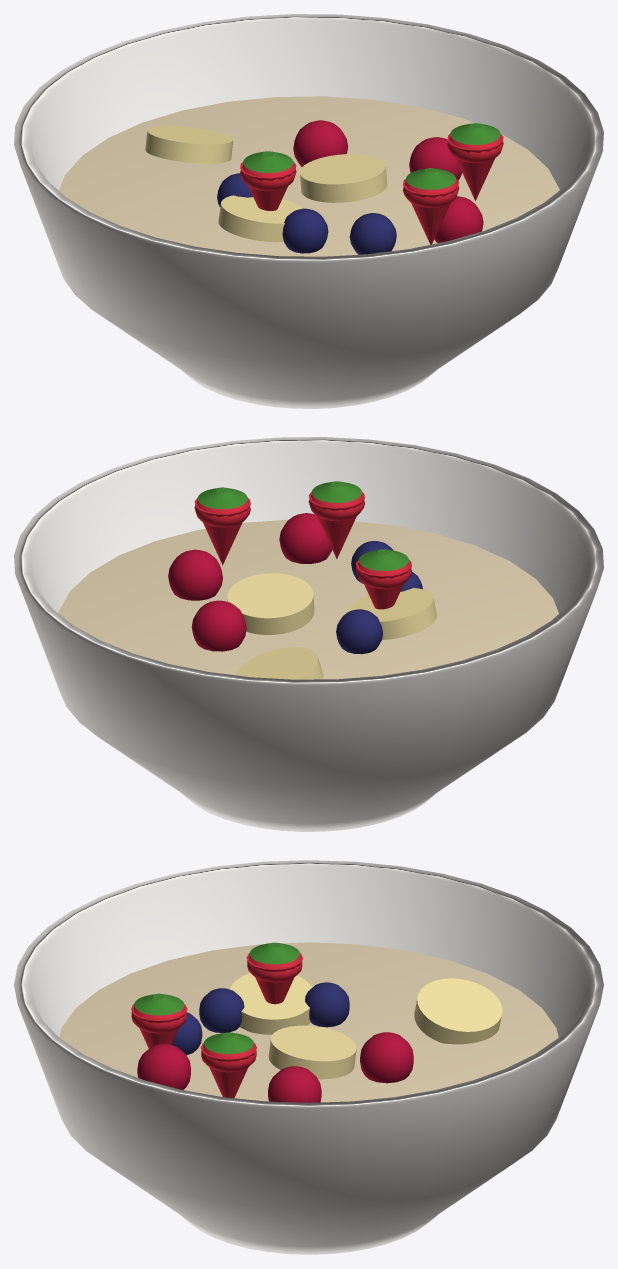
Rendered from mezzogiorno-porridge-con-frutta-e-latte-di-avena.glb.
The picture shows the model from 3 angles, top to bottom: view 1: azimuth 30°, elevation 25°; view 2: azimuth 150°, elevation 25°; view 3: azimuth 270°, elevation 25°; orthographic projection.
Size of the model in its own units: 0.15 by 0.0632 by 0.15.
